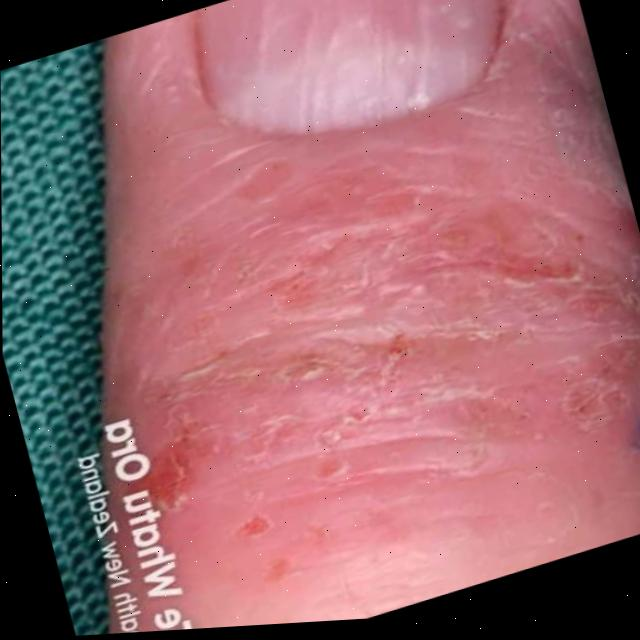Eczema: (125, 59, 640, 633)
